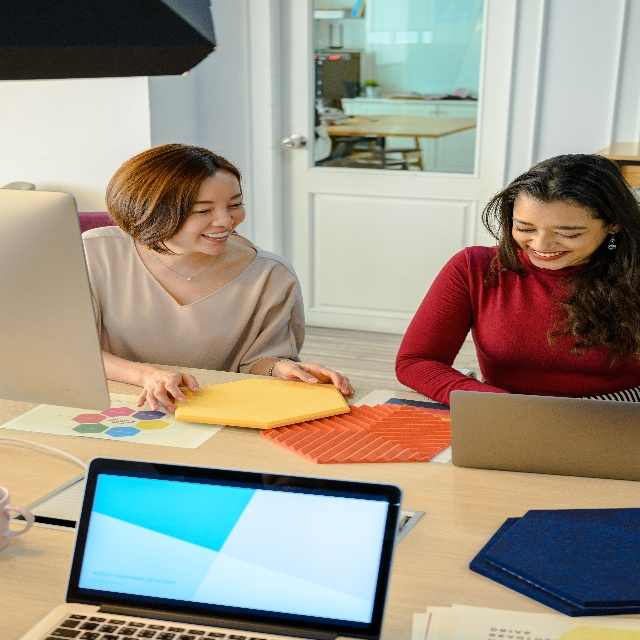Sin_guantes: (136, 366, 201, 420), (277, 357, 355, 395)
